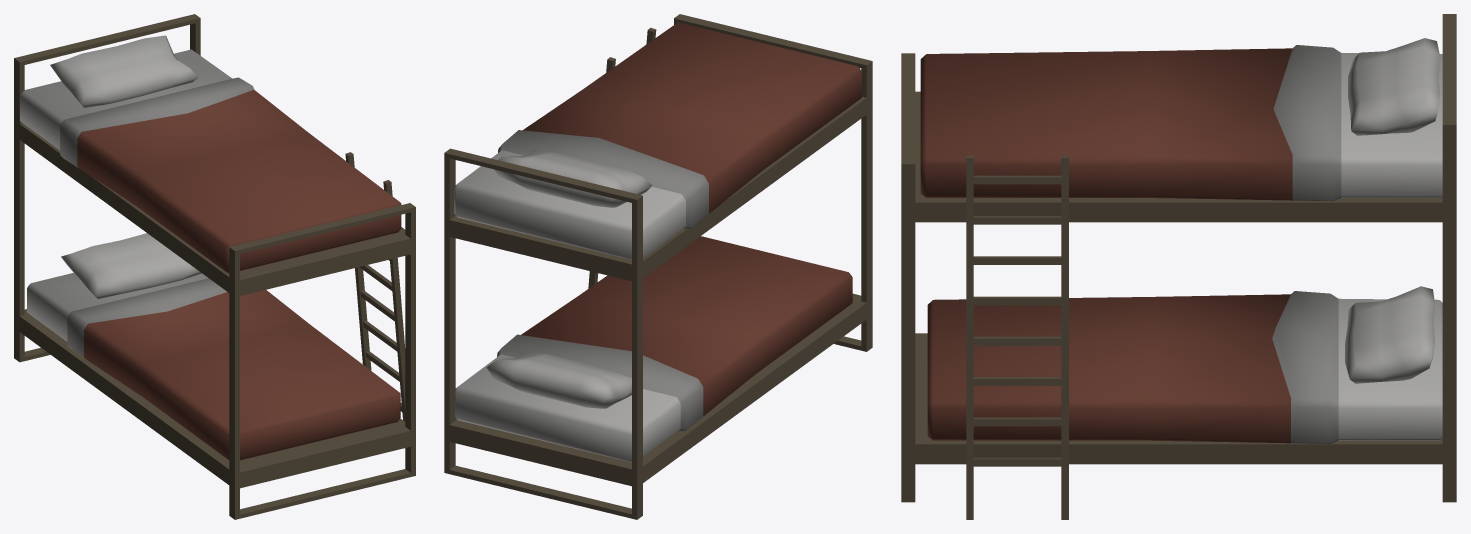
The model's file is Bed_Bunk.gltf.
The picture shows the model from 3 angles, left to right: view 1: azimuth 30°, elevation 25°; view 2: azimuth 150°, elevation 25°; view 3: azimuth 270°, elevation 25°; orthographic projection. The views are drawn at different scales.
Parts seen in each view (by area): view 1: Bed_Bunk; view 2: Bed_Bunk; view 3: Bed_Bunk.
Part boxes in pixels (x1,y1,x2,y2): Bed_Bunk: [14, 14, 415, 519]; Bed_Bunk: [444, 14, 872, 519]; Bed_Bunk: [901, 14, 1456, 519].
Bounding box in the file's own units: 2.17 × 3.03 × 4.
